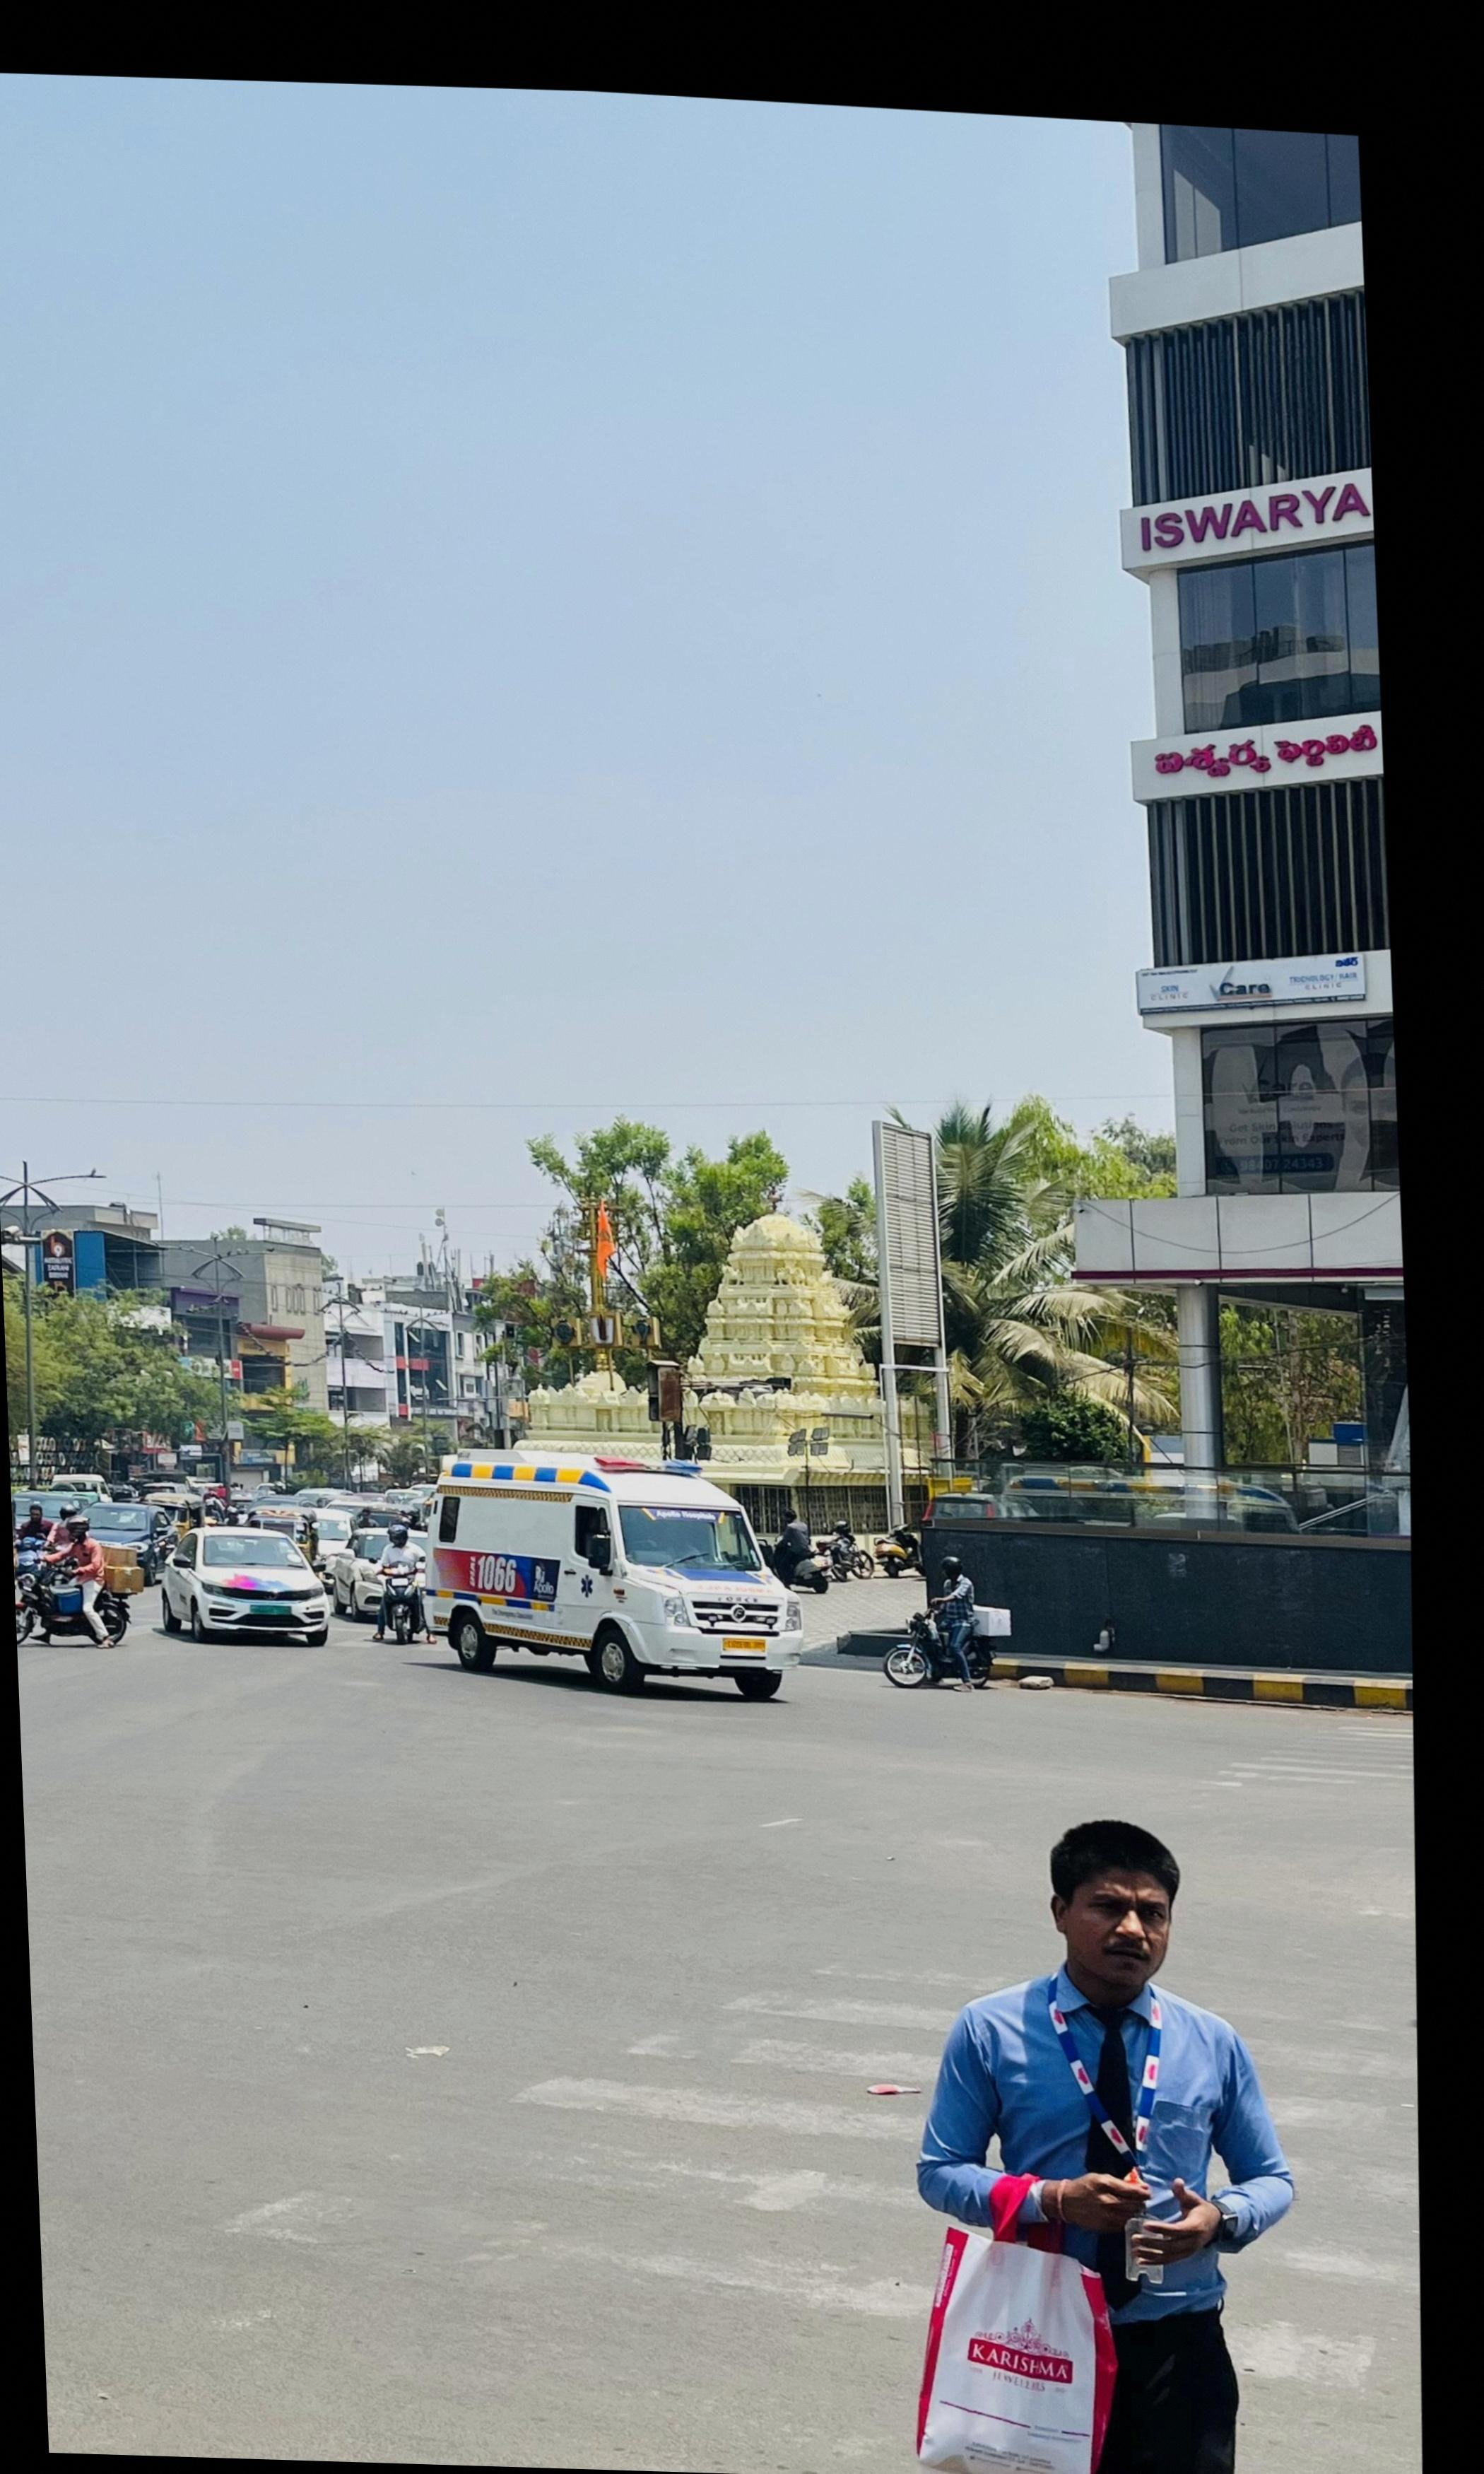ambulance: (424, 1451, 791, 1711)
